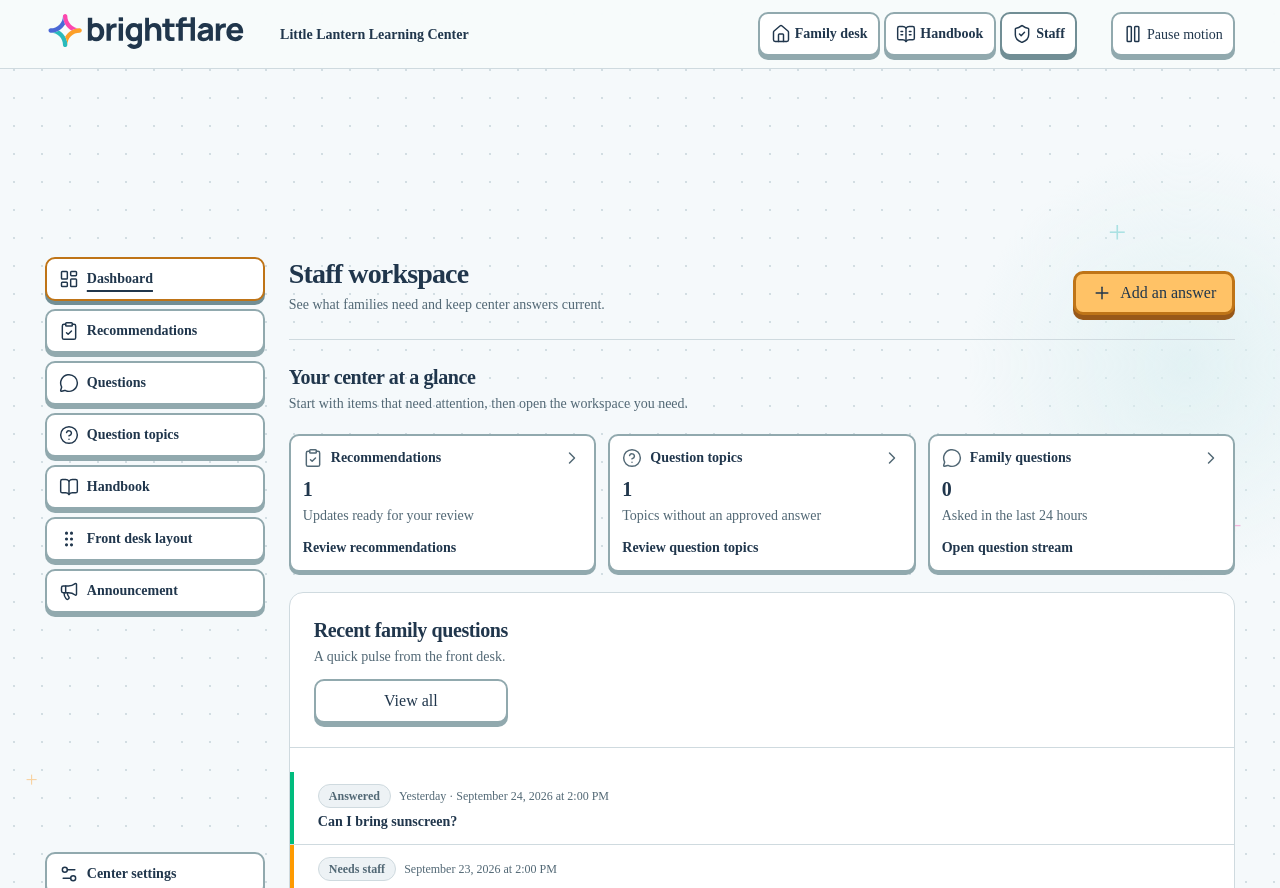
Scenario: AdminConsole › shows individual recent questions and keeps private child wording hidden
Expected: the text "Can I bring sunscreen?" is shown, [318,814,457,829]
Step 1. Click the link "Questions" → click(155, 383), box [45,361,265,405]
(page scrolled)
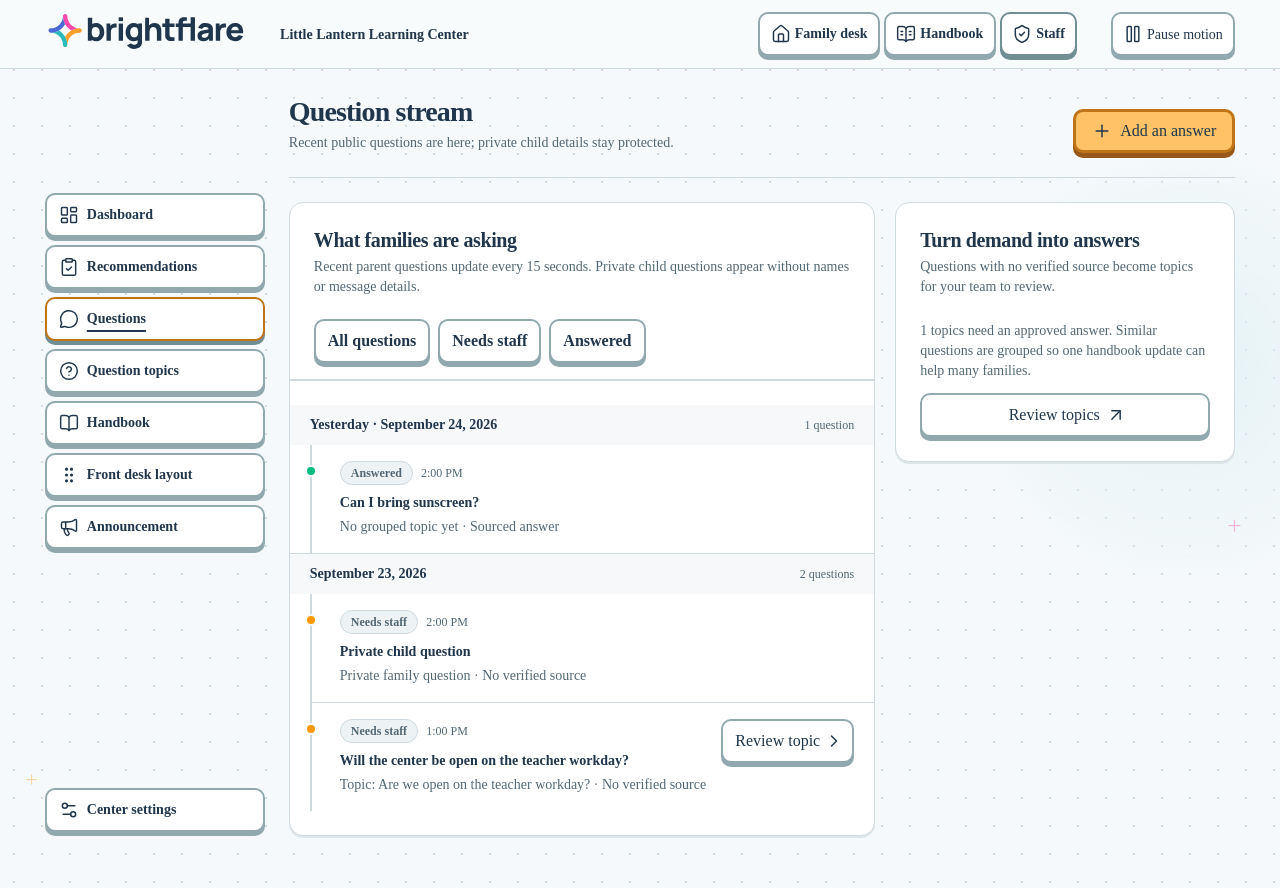
Result: the text "No grouped topic yet · Sourced answer" is shown at [340,517,559,537]
Result: the text "Private child question" is shown at [340,644,470,659]
Result: the text "Private family question · No verified source" is shown at [340,666,586,686]
Step 2. Click the button "Review topic" → click(788, 741), box [721,719,854,763]
(page scrolled)
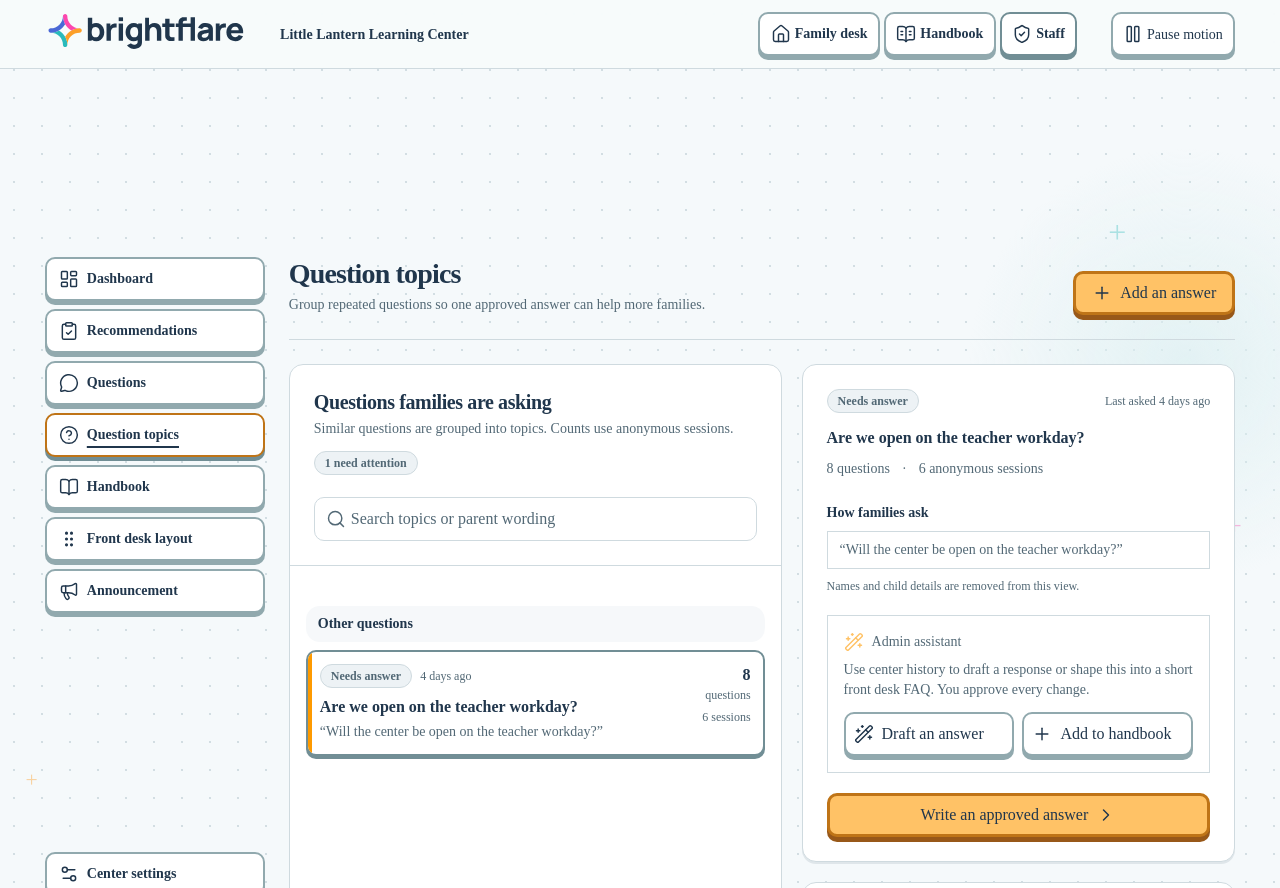
Result: the button "Write an approved answer" is shown at [827,793,1210,837]
